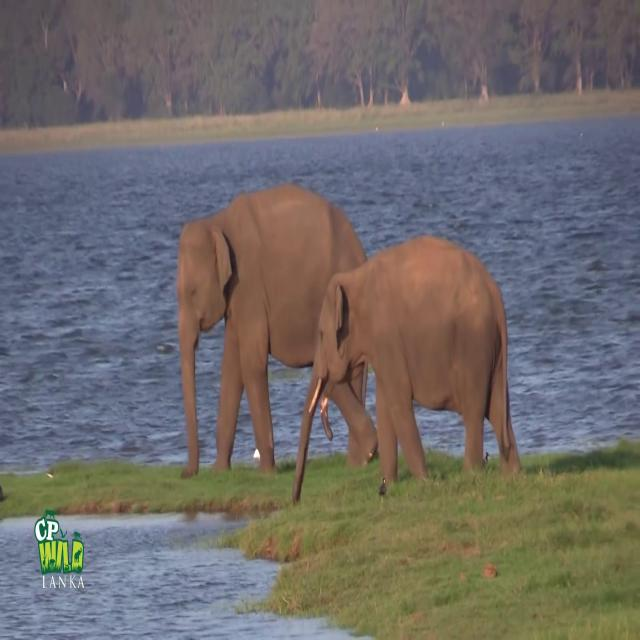Elephant: (292, 233, 522, 504), (176, 182, 376, 479)
